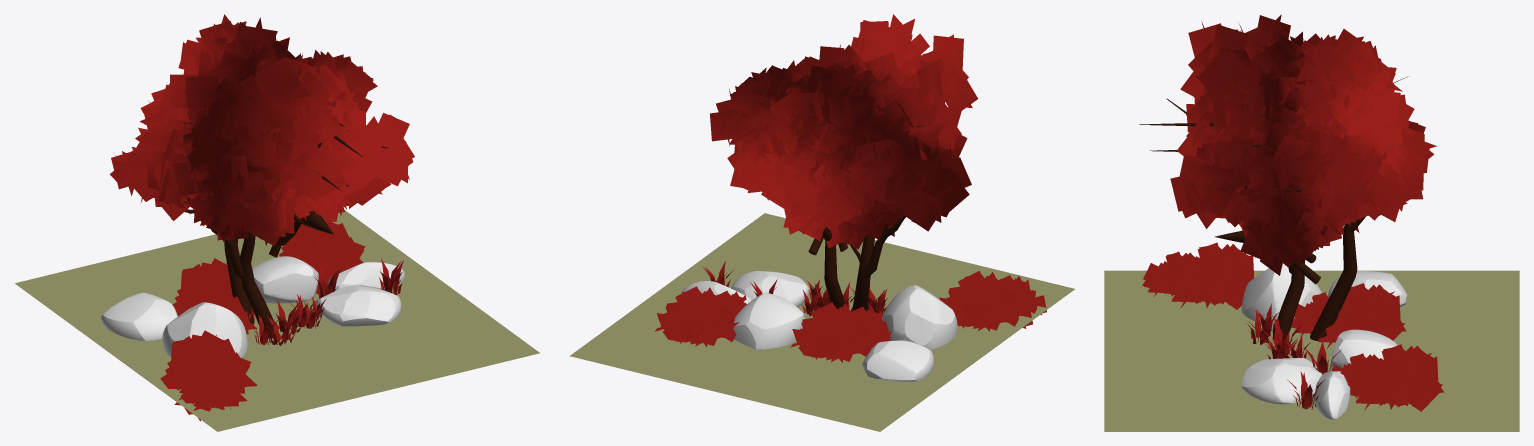
The model's file is arbre.fbx.
3 views of the same model, side by side, from view 1: azimuth 30°, elevation 25°; view 2: azimuth 150°, elevation 25°; view 3: azimuth 270°, elevation 25° (orthographic). The views are drawn at different scales.
Parts seen in each view (by area): view 1: Plane004, Plane005, Plane013, GeoSphere039, GeoSphere036, GeoSphere038, GeoSphere037, Plane014, Plane009, Plane011, Cylinder001, GeoSphere040 (+4 smaller); view 2: Plane004, Plane005, GeoSphere038, Plane011, Plane013, Plane009, GeoSphere037, GeoSphere036, GeoSphere039, Cylinder001, Cylinder014, Plane014 (+2 smaller); view 3: Plane004, Plane005, Plane009, Plane013, Plane011, GeoSphere039, GeoSphere038, Cylinder014, GeoSphere037, GeoSphere040, Plane014, GeoSphere036 (+5 smaller).
Part boxes in pixels (box(x1,y1,x2,y2)): Plane004: box(110, 14, 414, 246); Plane005: box(15, 210, 539, 431); Plane013: box(160, 330, 257, 414); GeoSphere039: box(316, 285, 401, 326); GeoSphere036: box(100, 292, 177, 341); GeoSphere038: box(162, 302, 247, 357); GeoSphere037: box(252, 256, 318, 303); Plane014: box(180, 363, 247, 421); Plane009: box(279, 221, 365, 266); Plane011: box(172, 258, 254, 320); Cylinder001: box(181, 122, 274, 338); GeoSphere040: box(327, 262, 404, 290); Plane004: box(710, 14, 977, 249); Plane005: box(569, 213, 1074, 431); GeoSphere038: box(881, 285, 957, 349); Plane011: box(790, 302, 883, 362); Plane013: box(939, 271, 1032, 331); Plane009: box(655, 286, 739, 346); GeoSphere037: box(733, 292, 804, 349); GeoSphere036: box(862, 340, 933, 381); GeoSphere039: box(731, 270, 809, 307); Cylinder001: box(798, 110, 926, 311); Cylinder014: box(822, 227, 845, 309); Plane014: box(999, 275, 1046, 316); Plane004: box(1170, 14, 1436, 275); Plane005: box(1104, 270, 1519, 431); Plane009: box(1350, 344, 1444, 411); Plane013: box(1164, 242, 1254, 309); Plane011: box(1310, 283, 1406, 348); GeoSphere039: box(1241, 357, 1322, 404); GeoSphere038: box(1241, 263, 1321, 326); Cylinder014: box(1310, 216, 1365, 340); GeoSphere037: box(1331, 329, 1397, 370); GeoSphere040: box(1314, 371, 1350, 419); Plane014: box(1142, 251, 1195, 296); GeoSphere036: box(1328, 271, 1407, 306).
Bounding box in the file's own units: 1122 × 1109 × 1222.
